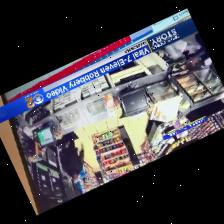person: (59, 133, 83, 182), (190, 31, 211, 64)
